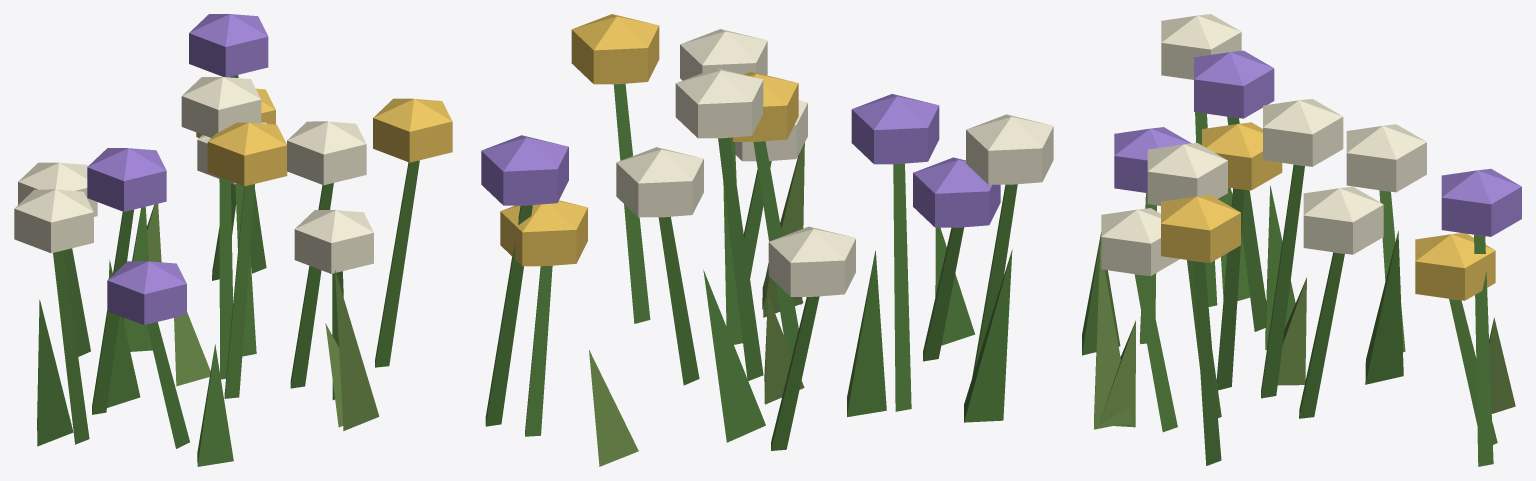
The model's file is cover_flower_mix.glb.
The picture shows the model from 3 angles, left to right: view 1: azimuth 30°, elevation 25°; view 2: azimuth 150°, elevation 25°; view 3: azimuth 270°, elevation 25°; orthographic projection. The views are drawn at different scales.
Visible parts, largest first — view 1: cover_flower_mix; view 2: cover_flower_mix; view 3: cover_flower_mix.
Part boxes in pixels (bbox=[...]): cover_flower_mix: bbox=[14, 14, 452, 466]; cover_flower_mix: bbox=[481, 14, 1053, 466]; cover_flower_mix: bbox=[1082, 14, 1521, 466].
Size of the model in its own units: 0.7118 by 0.4626 by 0.601.
